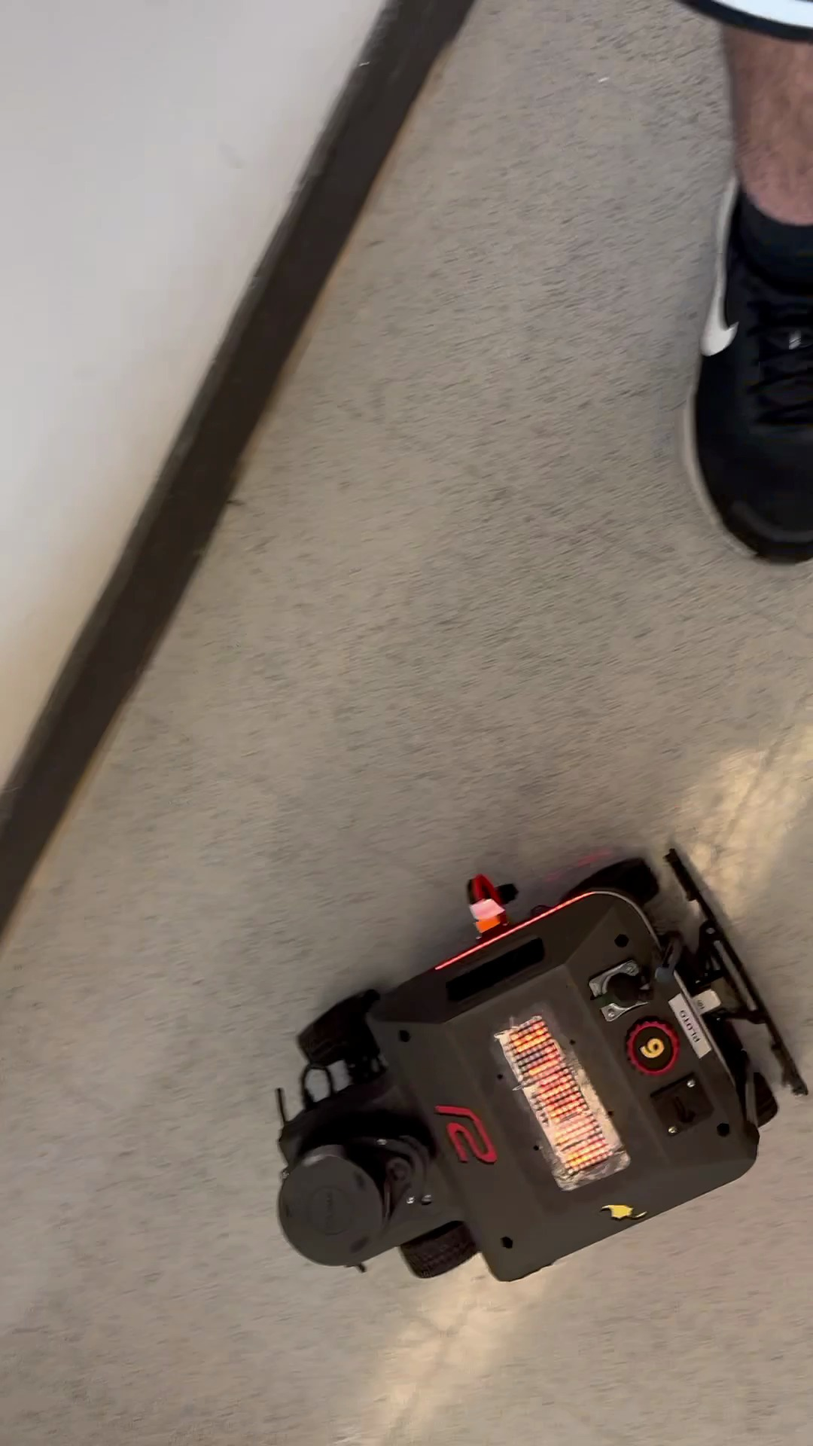racecar: (272, 845, 792, 1284)
